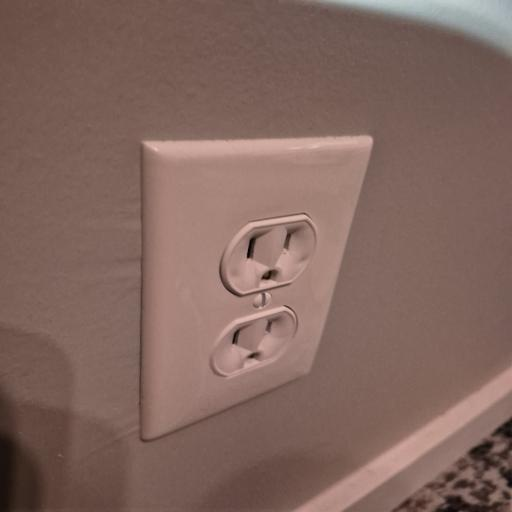outlet: (152, 144, 364, 411)
